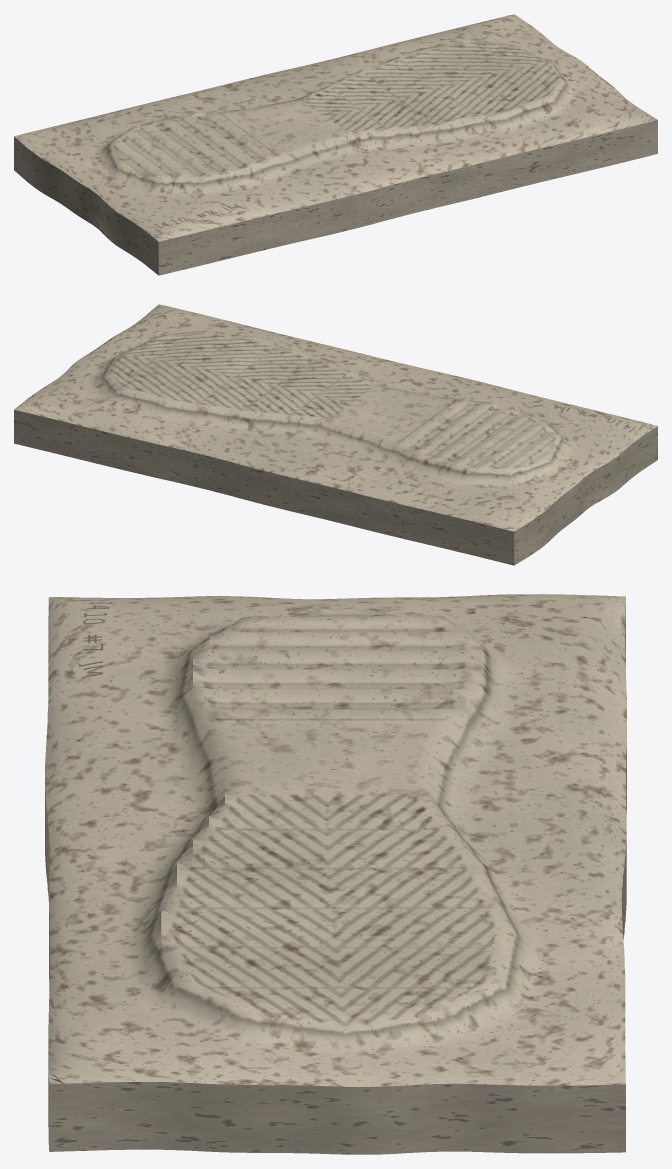
The model's file is ShoePrintCast.obj.
The picture shows the model from 3 angles, top to bottom: view 1: azimuth 30°, elevation 25°; view 2: azimuth 150°, elevation 25°; view 3: azimuth 270°, elevation 25°; orthographic projection. The views are drawn at different scales.
Parts seen in each view (by area): view 1: Cast; view 2: Cast; view 3: Cast.
Boxes of the visible parts, bbox=[...] form: Cast: bbox=[14, 14, 657, 275]; Cast: bbox=[14, 304, 657, 565]; Cast: bbox=[45, 594, 626, 1154].
Size of the model in its own units: 0.3274 by 0.0324 by 0.1634.
Materials: 1 (1 with a texture image).
